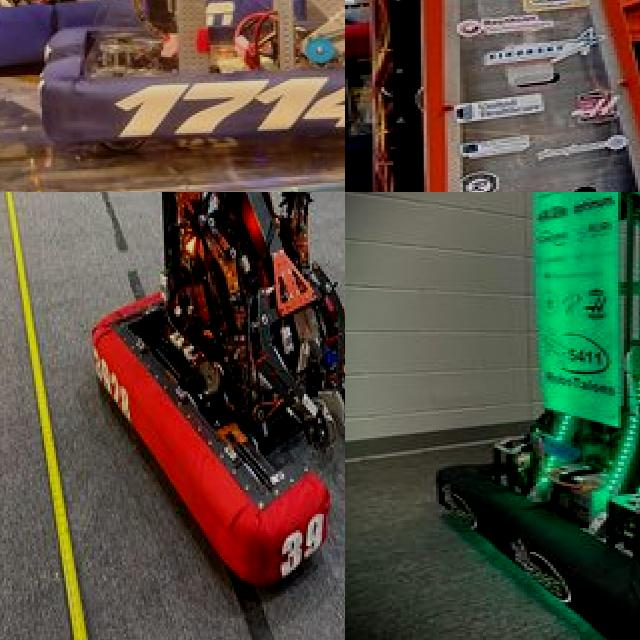FRC-Robots: (41, 192, 345, 581), (425, 192, 640, 640), (0, 0, 345, 170), (345, 0, 640, 192)
